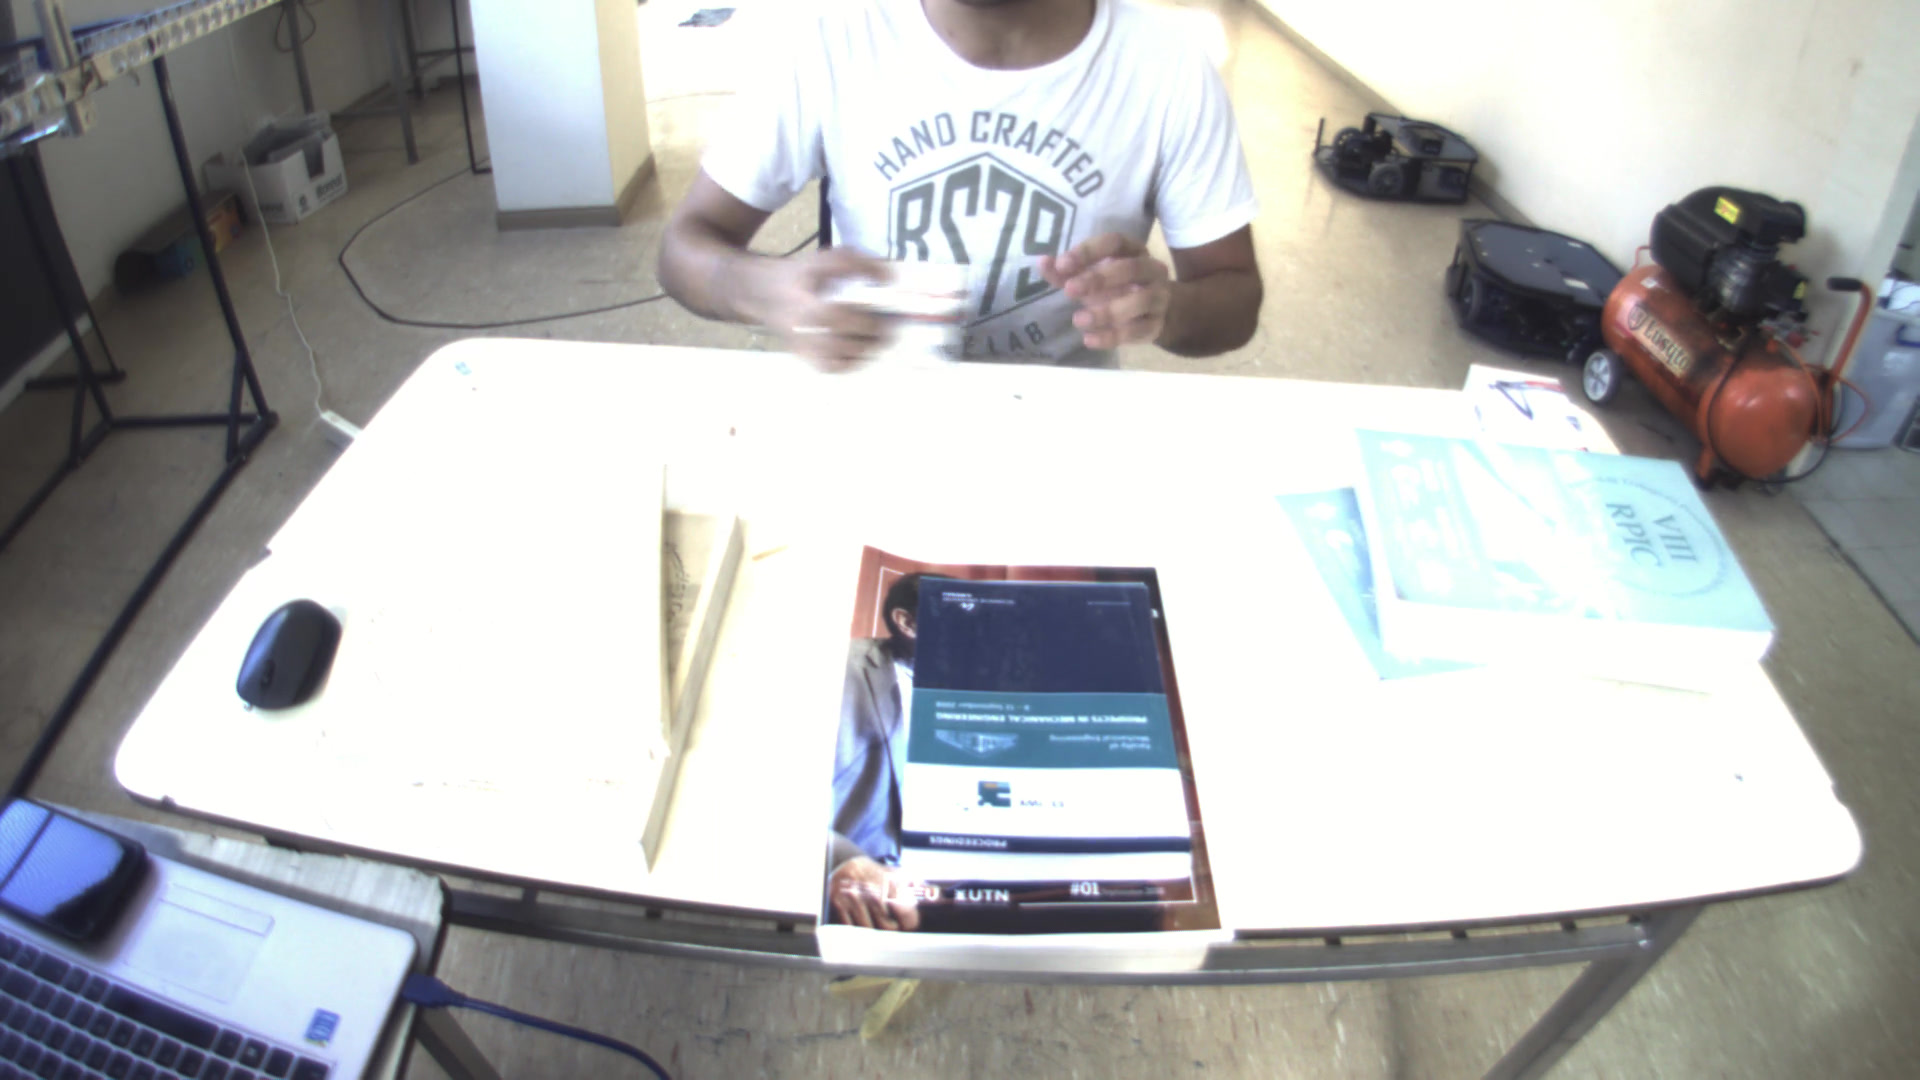hand: (733, 239, 895, 372), (1046, 220, 1187, 352)
